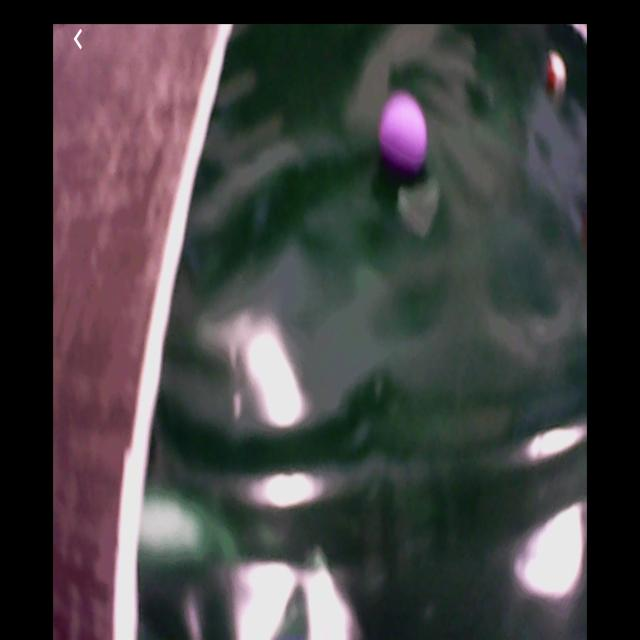ball: (379, 94, 427, 168)
